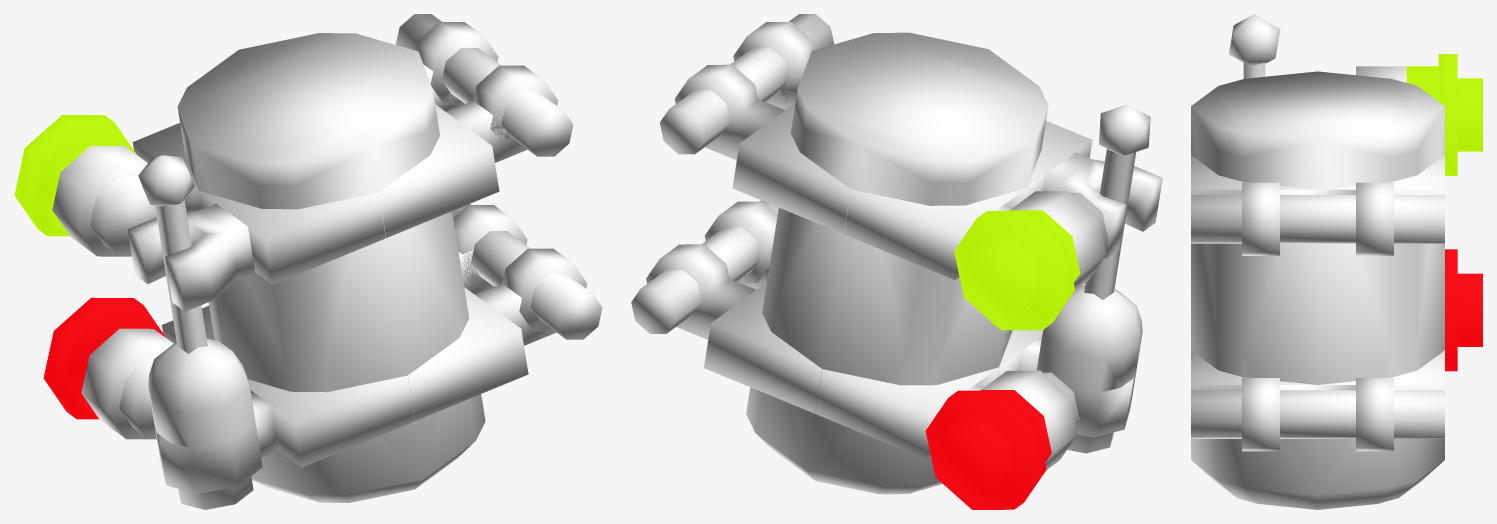
File: Minikit2.glb
3 renders of one model, left to right at view 1: azimuth 30°, elevation 25°; view 2: azimuth 150°, elevation 25°; view 3: azimuth 270°, elevation 25°, orthographic. The views are drawn at different scales.
Visible parts, largest first — view 1: Minikit.001; view 2: Minikit.001; view 3: Minikit.001.
Part boxes in pixels (x1=…): Minikit.001: x1=14, y1=14, x2=602, y2=509; Minikit.001: x1=631, y1=14, x2=1162, y2=509; Minikit.001: x1=1191, y1=14, x2=1482, y2=509.
Size of the model in its own units: 1.29 by 1.09 by 0.7427.
